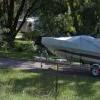Boat: (32, 26, 99, 79)
